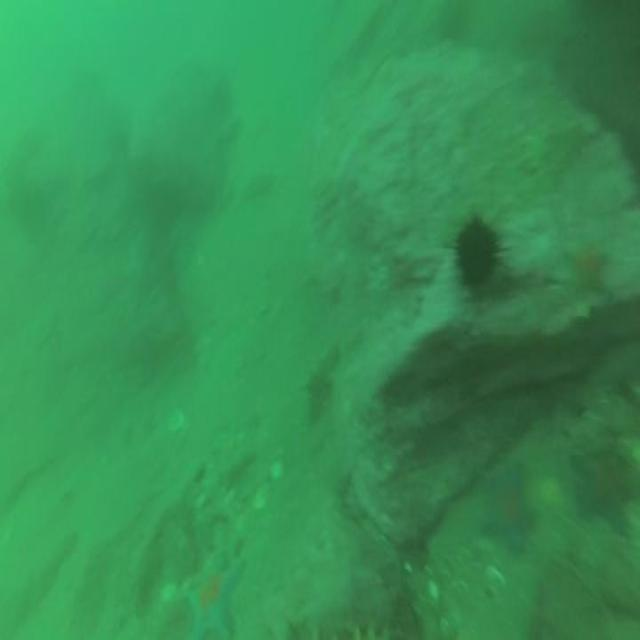echinus: (447, 208, 505, 296), (435, 0, 470, 51)
holothurian: (522, 107, 594, 204), (279, 603, 417, 640)
starfish: (569, 438, 637, 539), (477, 448, 538, 560), (180, 556, 246, 640), (561, 229, 611, 300)
